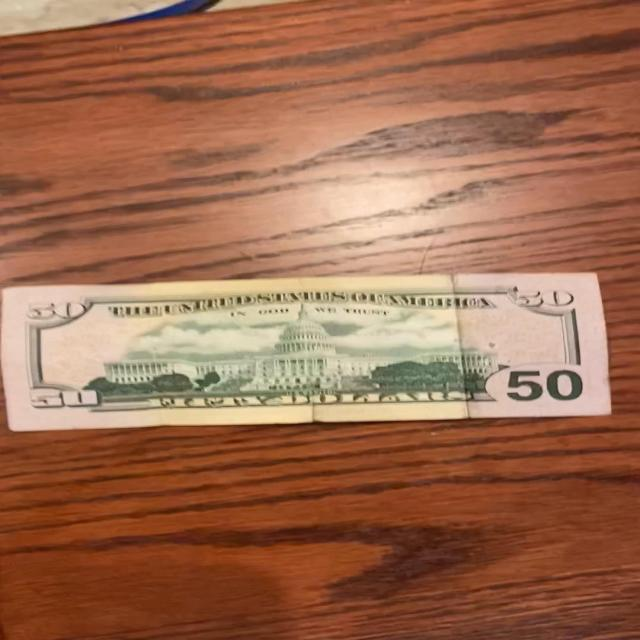50-Back: (0, 263, 625, 440)
